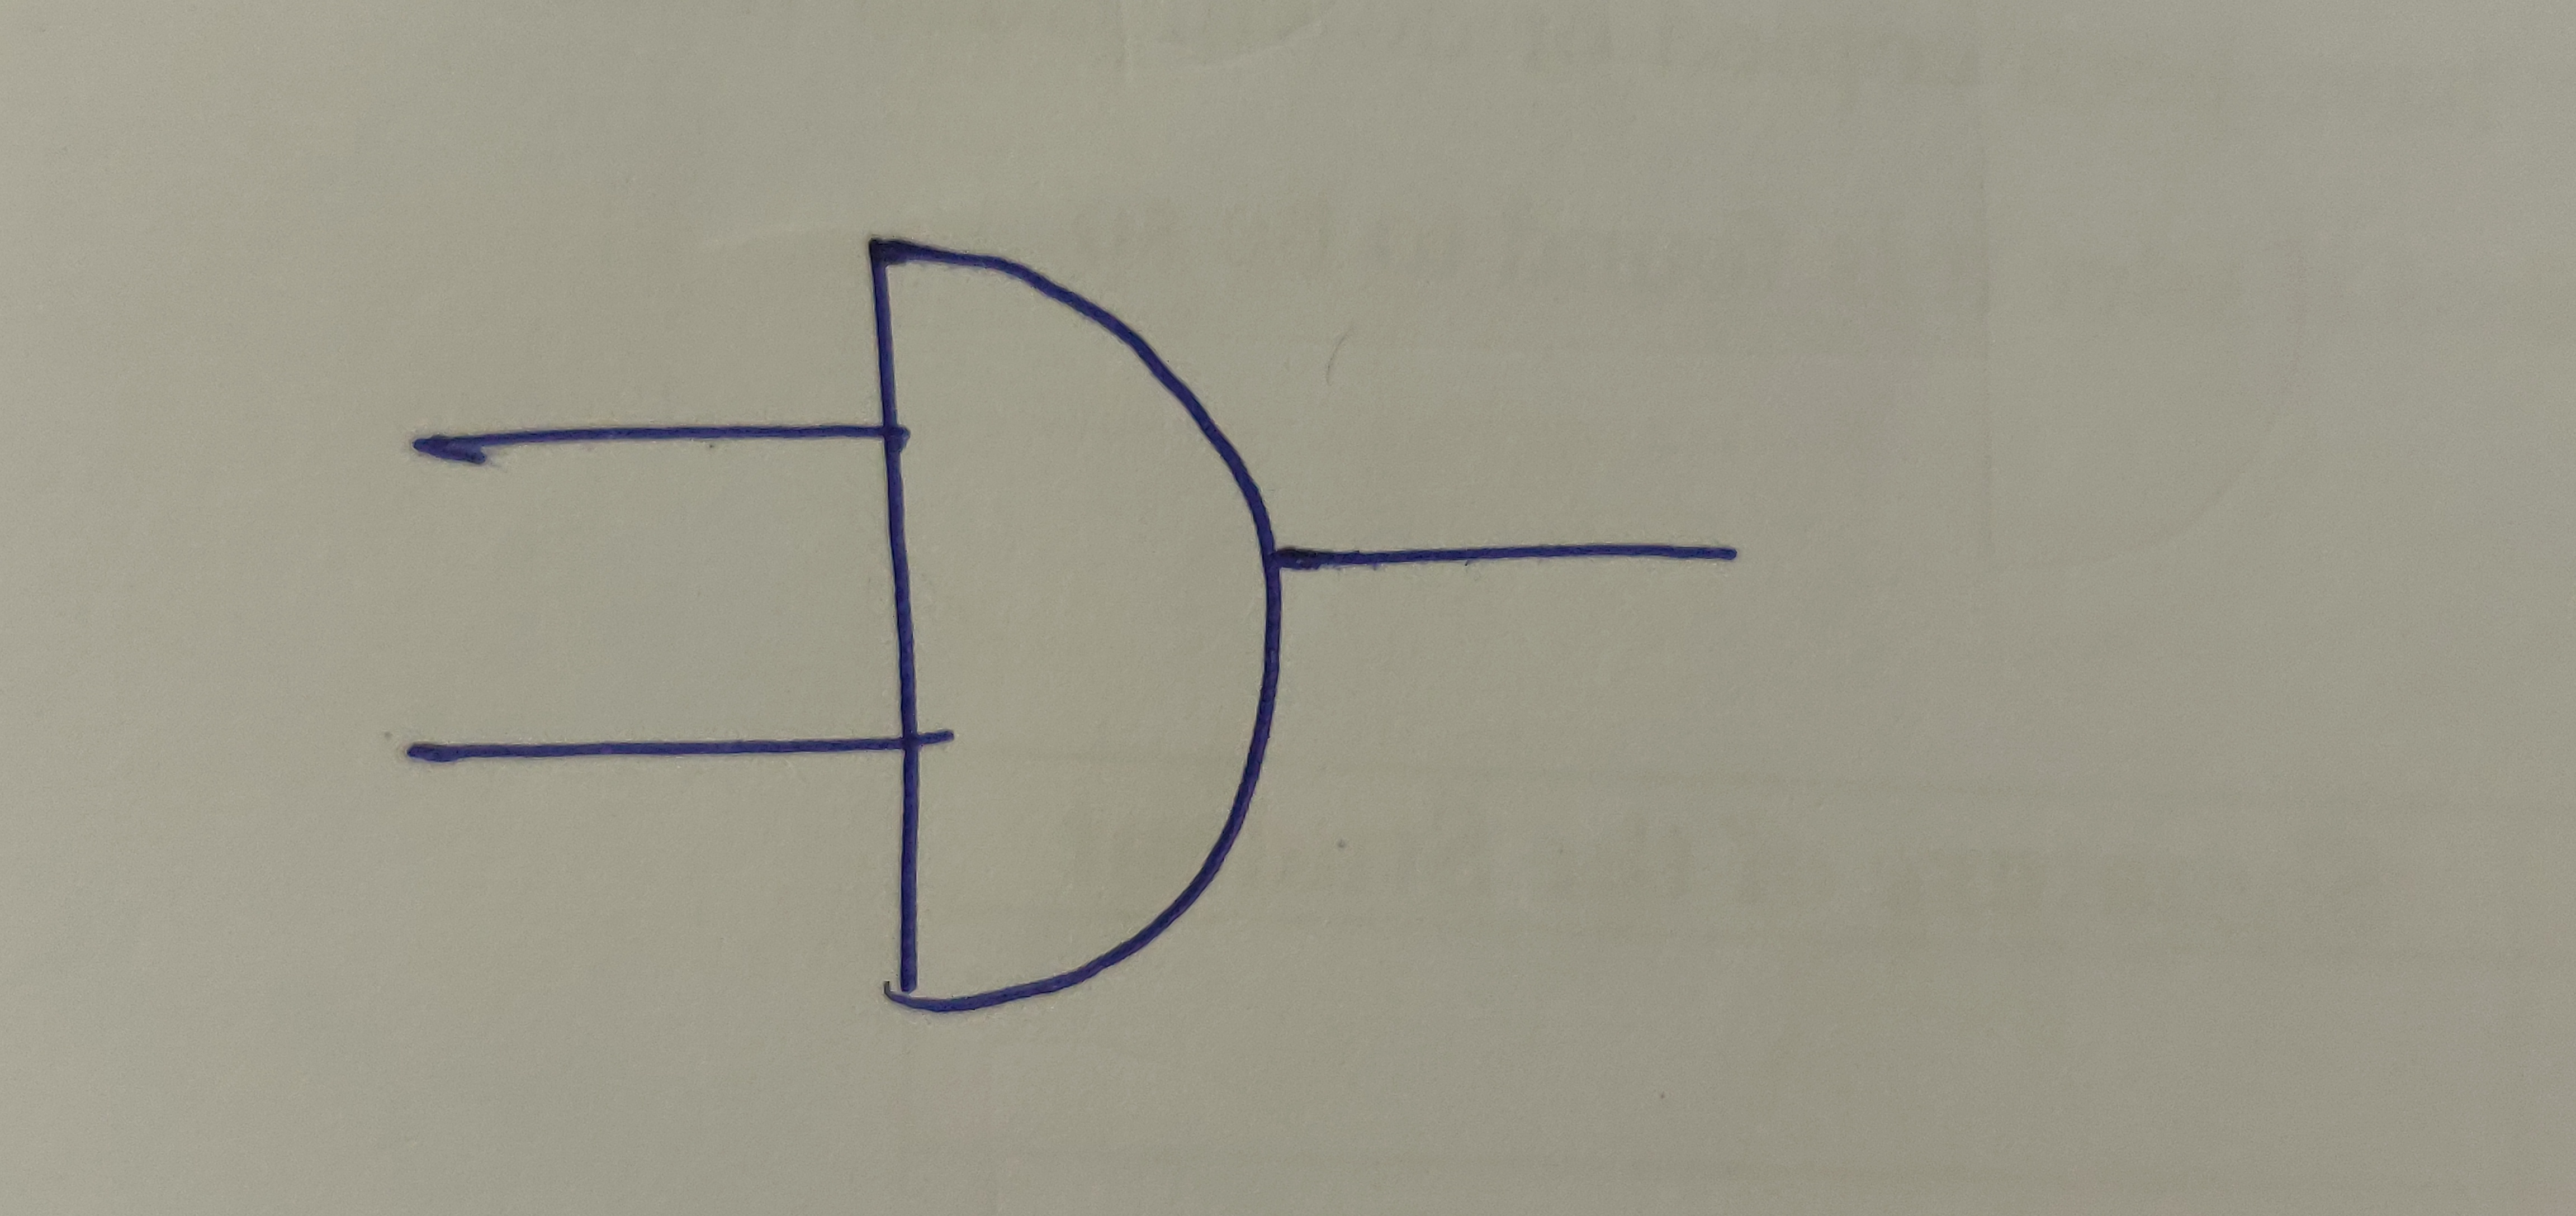and: (858, 230, 1280, 1019)
